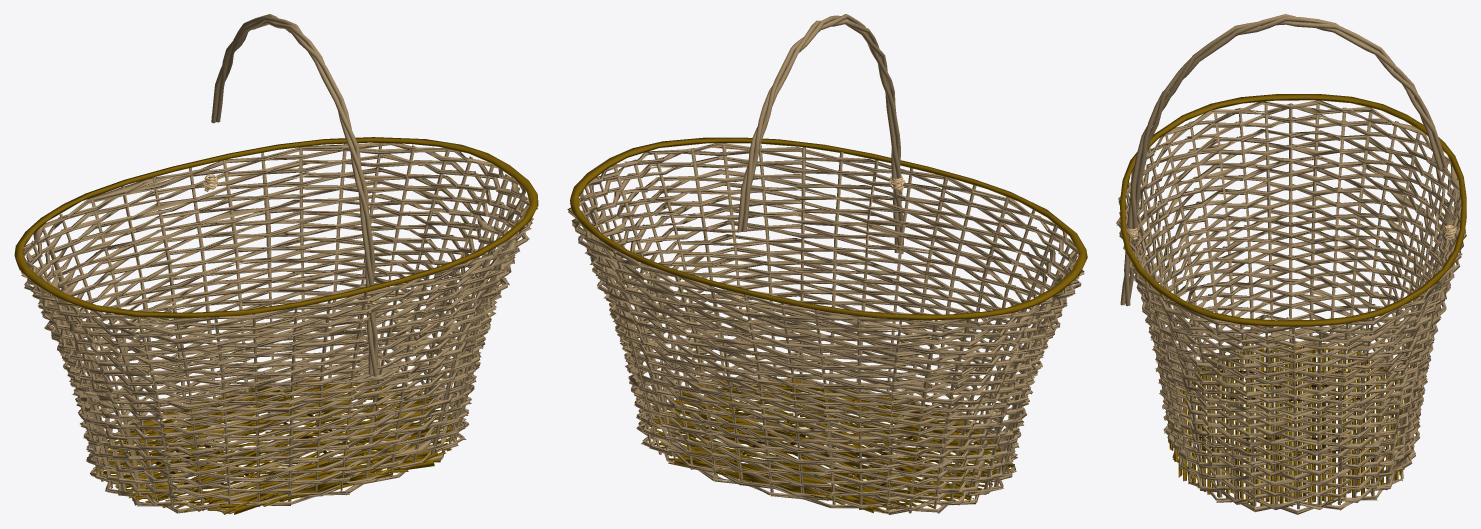
The model's file is gionavvi_wicker_basket - 56889.fbx.
3 views of the same model, side by side, from view 1: azimuth 30°, elevation 25°; view 2: azimuth 150°, elevation 25°; view 3: azimuth 270°, elevation 25° (orthographic).
Visible parts, largest first — view 1: Crossing, VerticalCrossing, BezierCurve.011, Contorno, BezierCurve; view 2: Crossing, VerticalCrossing, BezierCurve.011, Contorno, BezierCurve; view 3: Crossing, VerticalCrossing, BezierCurve.011, Contorno, BezierCurve, BezierCurve.010.
Boxes of the visible parts, x1=… form: Crossing: x1=21, y1=142, x2=537, y2=514; VerticalCrossing: x1=26, y1=143, x2=526, y2=510; BezierCurve.011: x1=93, y1=377, x2=456, y2=514; Contorno: x1=14, y1=137, x2=538, y2=318; BezierCurve: x1=211, y1=14, x2=378, y2=376; Crossing: x1=567, y1=143, x2=1084, y2=514; VerticalCrossing: x1=579, y1=144, x2=1077, y2=513; BezierCurve.011: x1=649, y1=377, x2=1014, y2=513; Contorno: x1=570, y1=137, x2=1087, y2=320; BezierCurve: x1=737, y1=14, x2=903, y2=254; Crossing: x1=1116, y1=100, x2=1466, y2=514; VerticalCrossing: x1=1119, y1=103, x2=1460, y2=509; BezierCurve.011: x1=1169, y1=342, x2=1412, y2=506; Contorno: x1=1120, y1=94, x2=1466, y2=326; BezierCurve: x1=1120, y1=14, x2=1447, y2=306; BezierCurve.010: x1=1193, y1=371, x2=1394, y2=452.
Bounding box in the file's own units: 3.72 × 3.18 × 2.38.
